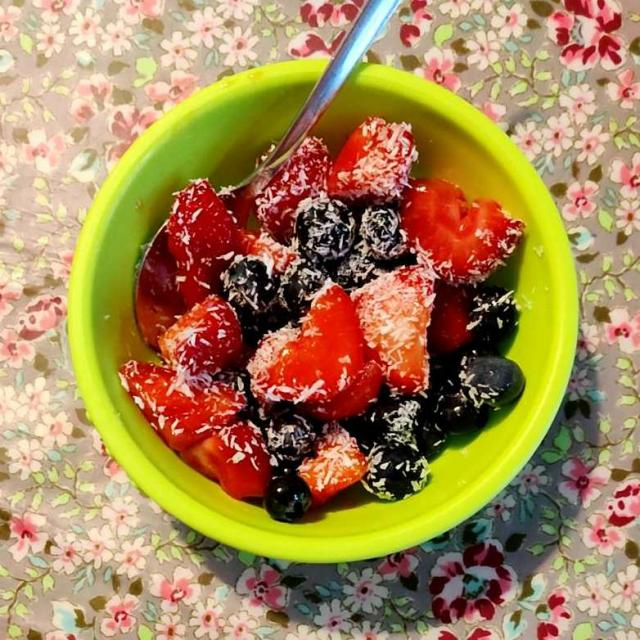berries: (127, 127, 517, 507)
coconut: (199, 141, 473, 470)
